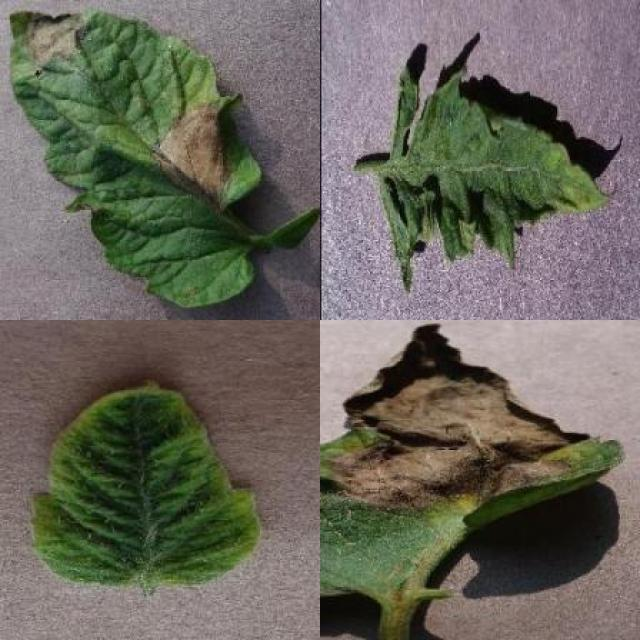Late Blight: (320, 322, 626, 597), (7, 7, 262, 310)
Mosaic Virus: (378, 59, 616, 295)
Yellow Leaf Curl Virus: (32, 385, 258, 588)
